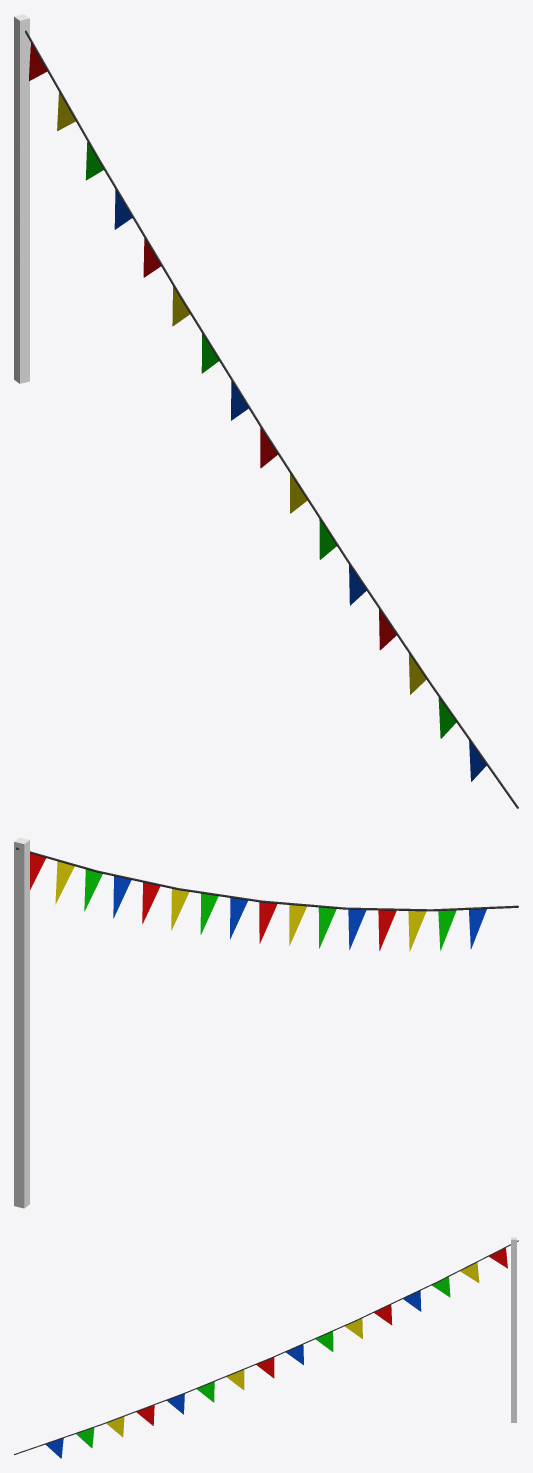
The model's file is 11 Festoon_flags_2.FBX.
3 renders of one model, top to bottom at view 1: azimuth 30°, elevation 25°; view 2: azimuth 150°, elevation 25°; view 3: azimuth 270°, elevation 25°, orthographic. The views are drawn at different scales.
Parts seen in each view (by area): view 1: Festoon_flags; view 2: Festoon_flags; view 3: Festoon_flags.
Part boxes in pixels (x1,y1,x2,y2): Festoon_flags: [14, 14, 518, 808]; Festoon_flags: [14, 837, 518, 1208]; Festoon_flags: [14, 1237, 518, 1458].
Bounding box in the file's own units: 50 × 2048 × 4254.
